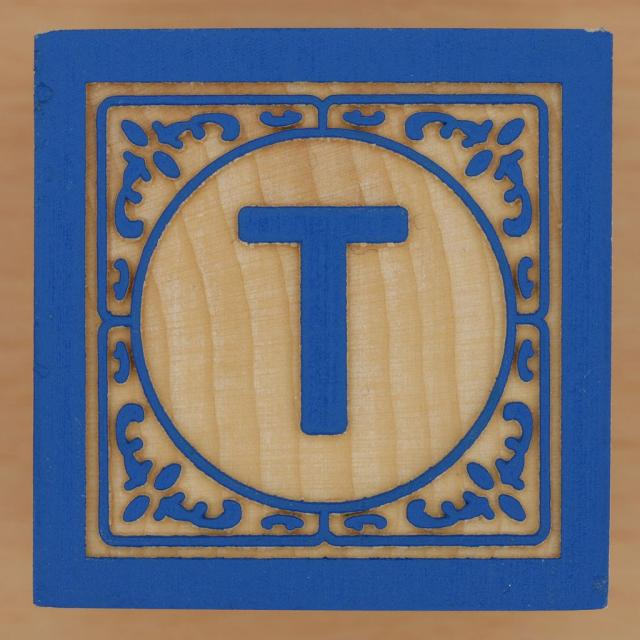T: (223, 192, 429, 453)
